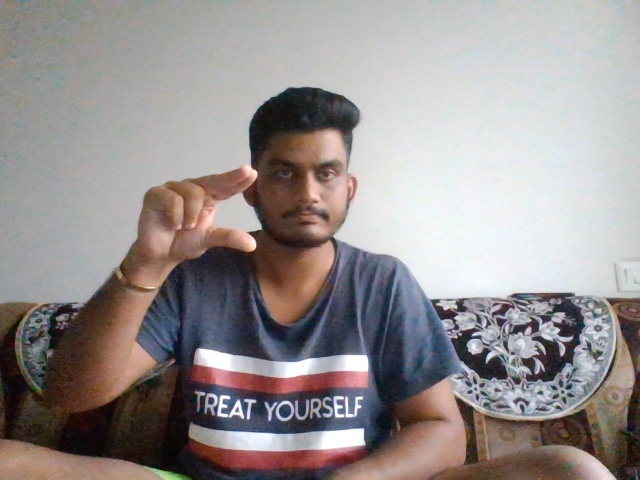No: (128, 157, 267, 269)
